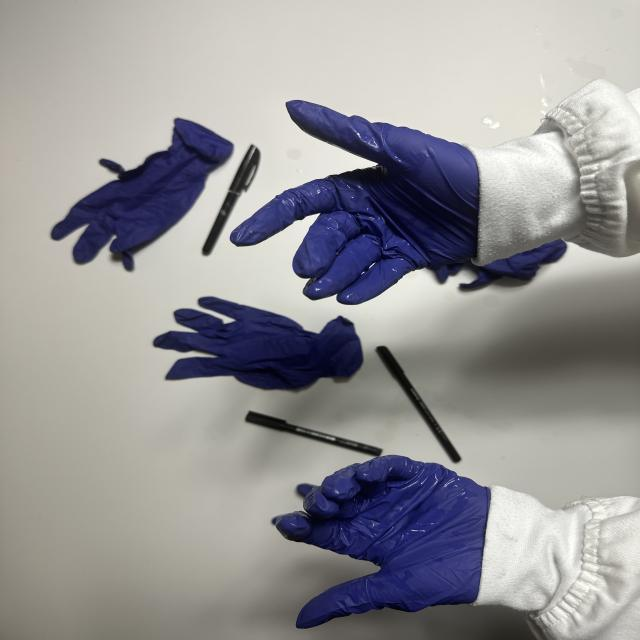gloves_contaminated: (231, 101, 479, 304), (276, 456, 490, 628)
